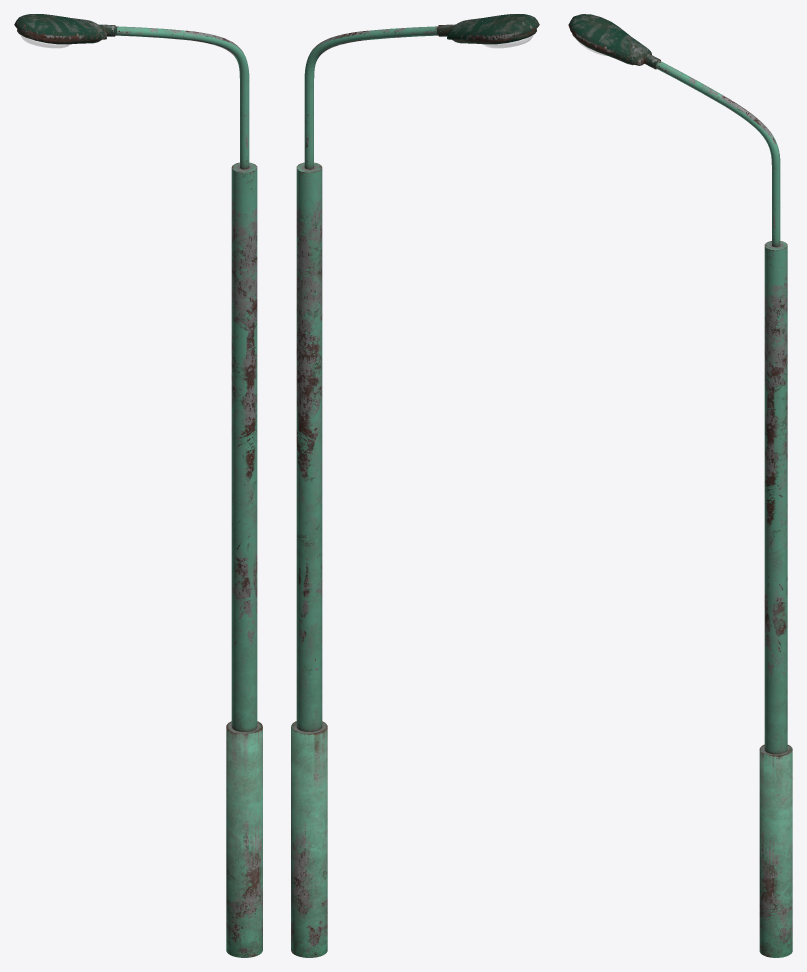
3 renders of one model, left to right at view 1: azimuth 30°, elevation 25°; view 2: azimuth 150°, elevation 25°; view 3: azimuth 330°, elevation 25°, orthographic. The views are drawn at different scales.
Visible parts, largest first — view 1: lighting_pole; view 2: lighting_pole; view 3: lighting_pole.
Part boxes in pixels (x1,y1,x2,y2): lighting_pole: (14,14,262,957); lighting_pole: (291,14,539,957); lighting_pole: (568,14,792,957).
Size of the model in its own units: 228 by 880 by 44.66.
Materials: 2 (1 with a texture image).
